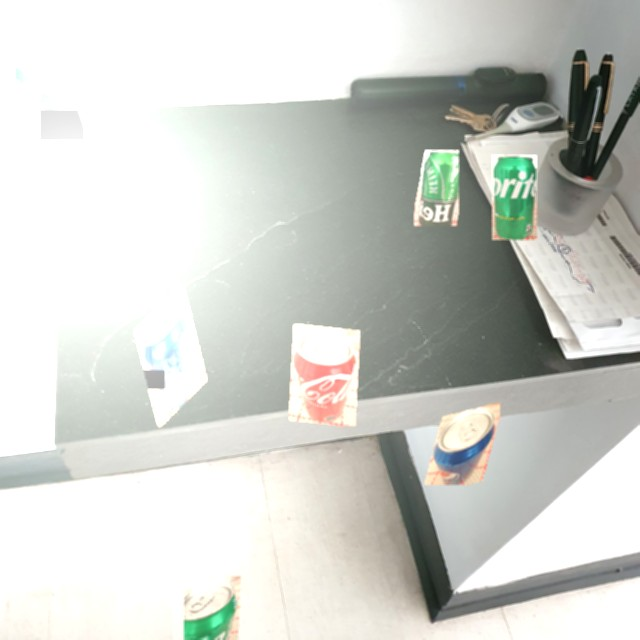coca cola: (289, 324, 360, 426)
heineken: (414, 150, 459, 226)
pepsi: (103, 284, 239, 427), (423, 402, 500, 485)
schweppes: (15, 51, 88, 140)
sprite: (492, 155, 537, 240), (184, 576, 241, 640)
